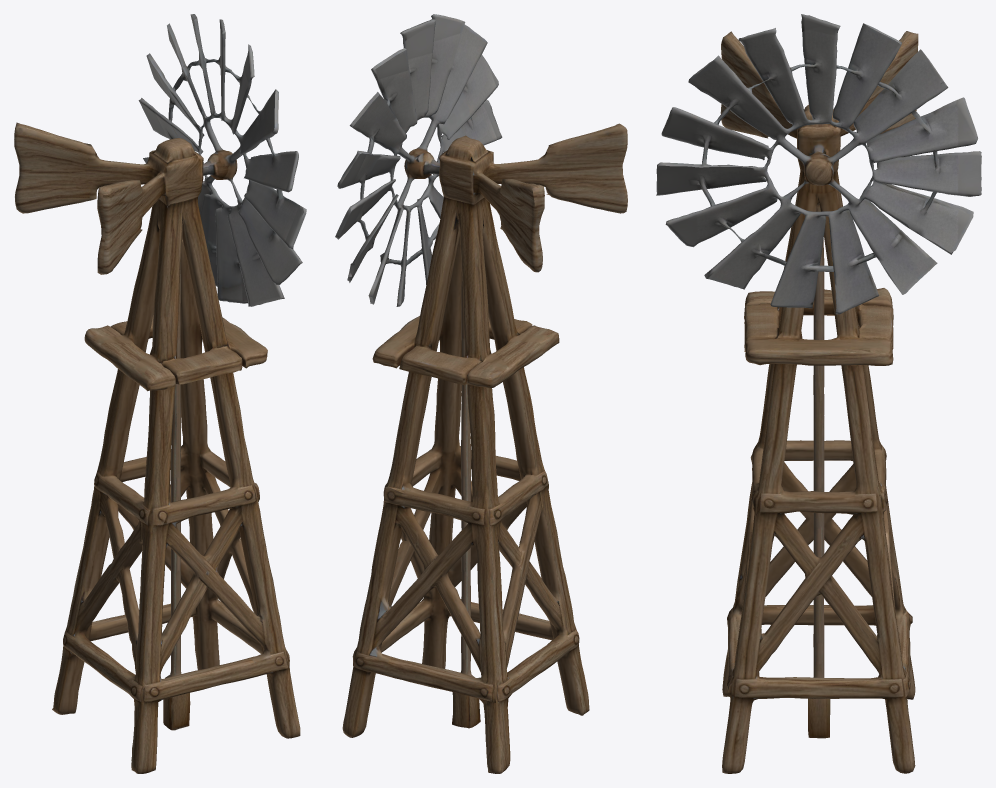
File: windmill+model+3d.fbx
3 views of the same model, side by side, from view 1: azimuth 30°, elevation 25°; view 2: azimuth 150°, elevation 25°; view 3: azimuth 270°, elevation 25° (orthographic). The views are drawn at different scales.
Parts seen in each view (by area): view 1: tripo_node_29024a53; view 2: tripo_node_29024a53; view 3: tripo_node_29024a53.
Part boxes in pixels (x1=…): tripo_node_29024a53: x1=14, y1=14, x2=306, y2=773; tripo_node_29024a53: x1=335, y1=14, x2=627, y2=773; tripo_node_29024a53: x1=656, y1=14, x2=981, y2=773.
Bounding box in the file's own units: 30.55 × 100 × 39.8.
1 material, 1 textured.
